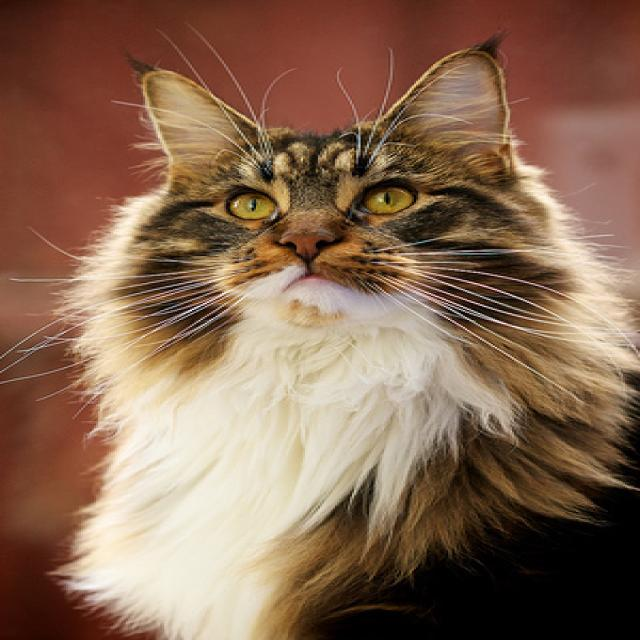Maine Coon: (59, 41, 640, 640)
